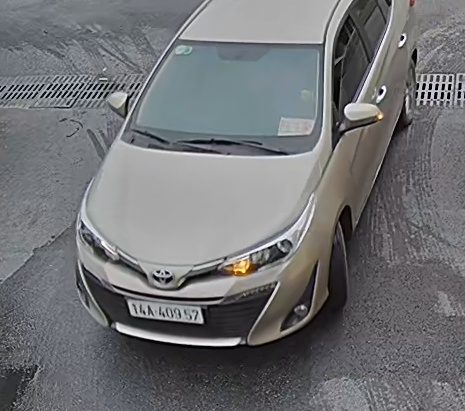vehicle plate: (122, 295, 208, 324)
